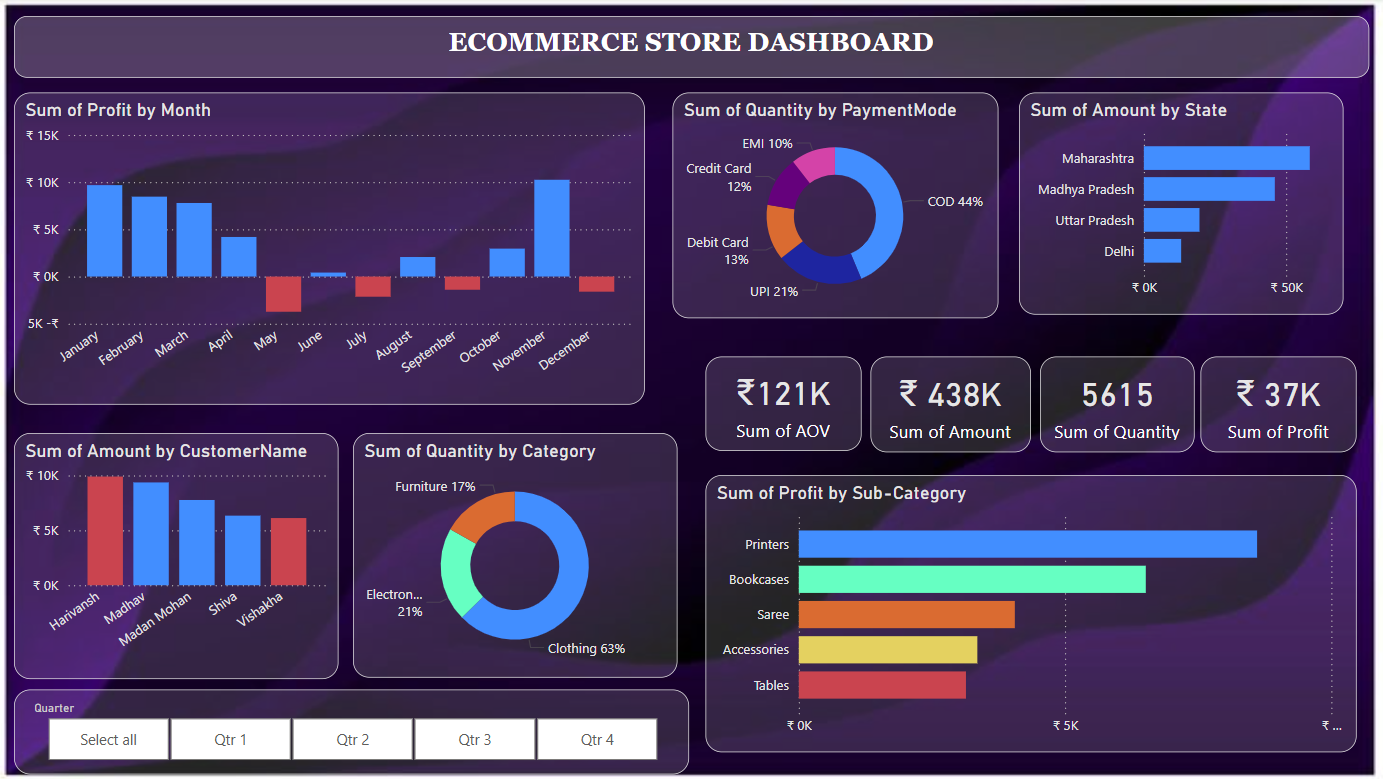

This screenshot's page, from the dashboard's own definition file:
{"tool":"powerbi","page":{"name":"Page 1","canvas":[1280,720],"ordinal":0},"visuals":[{"type":"textbox","box":[21.4,15.7,592.9,57.1],"z":0},{"type":"columnChart","fields":{"Category":["Orders.Order Date.Variation.Date Hierarchy.Month"],"Y":["Details.Profit"]},"box":[656,130,580,286],"z":1000},{"type":"barChart","fields":{"Category":["Details.Sub-Category"],"Y":["Details.Profit"]},"box":[656.7,451.7,580,241.7],"z":2000},{"type":"donutChart","fields":{"Category":["Details.Category"],"Y":["Details.Quantity"]},"box":[342,454,298,224],"z":3000},{"type":"donutChart","fields":{"Y":["Details.Quantity"],"Category":["Details.PaymentMode"]},"box":[341.7,221.7,298.3,206.7],"z":4000},{"type":"card","fields":{"Values":["Details.Amount"]},"box":[21.5,86.2,146.2,87.7],"z":5000},{"type":"card","fields":{"Values":["Details.Profit"]},"box":[176.9,86.2,143.1,87.7],"z":6000},{"type":"card","fields":{"Values":["Details.Quantity"]},"box":[330.8,87.7,143.1,87.7],"z":7000},{"type":"card","fields":{"Values":["Details.AverageOrderValue"]},"box":[485.3,88.4,143.2,87.4],"z":8000},{"type":"barChart","fields":{"Category":["Orders.State"],"Y":["Details.Amount"]},"box":[21.7,221.7,298.3,203.3],"z":8001},{"type":"columnChart","fields":{"Category":["Orders.CustomerName"],"Y":["Details.Amount"]},"box":[20,452,298,226],"z":8002},{"type":"slicer","fields":{"Values":["Orders.Order Date.Variation.Date Hierarchy.Quarter"]},"box":[640,16,346,88],"z":8003},{"type":"slicer","fields":{"Values":["Orders.State"]},"box":[986,16,294,88],"z":8004}]}

Visuals, with their boxes in screenshot pixels (x1, y1, x2, y2), scaled from the page's 1280x720 canvas onto the 1383x779 screenshot:
textbox: rect(23, 17, 664, 79)
columnChart - Orders.Order Date.Variation.Date Hierarchy.Month x Details.Profit: rect(709, 141, 1335, 450)
barChart - Details.Sub-Category x Details.Profit: rect(710, 489, 1336, 750)
donutChart - Details.Category x Details.Quantity: rect(370, 491, 692, 734)
donutChart - Details.Quantity x Details.PaymentMode: rect(369, 240, 692, 464)
card - Details.Amount: rect(23, 93, 181, 188)
card - Details.Profit: rect(191, 93, 346, 188)
card - Details.Quantity: rect(357, 95, 512, 190)
card - Details.AverageOrderValue: rect(524, 96, 679, 190)
barChart - Orders.State x Details.Amount: rect(23, 240, 346, 460)
columnChart - Orders.CustomerName x Details.Amount: rect(22, 489, 344, 734)
slicer - Orders.Order Date.Variation.Date Hierarchy.Quarter: rect(692, 17, 1065, 113)
slicer - Orders.State: rect(1065, 17, 1382, 113)
